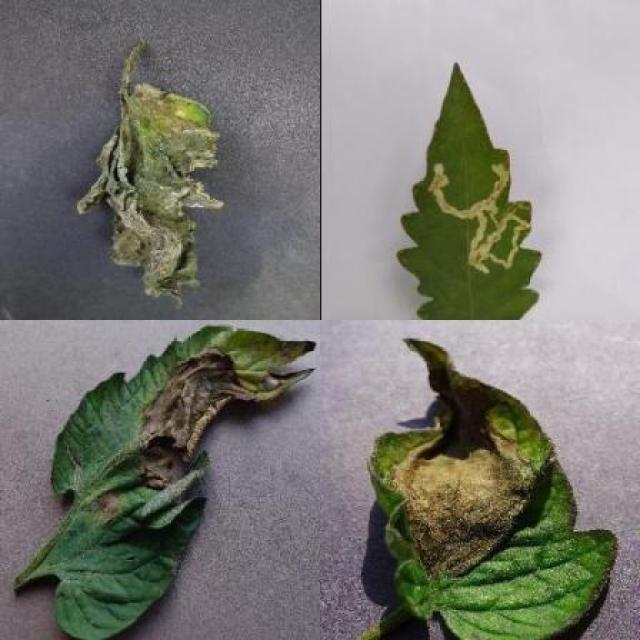Late Blight: (50, 323, 317, 640), (363, 335, 615, 640), (78, 80, 221, 307)
Leaf Miner: (394, 59, 544, 320)
